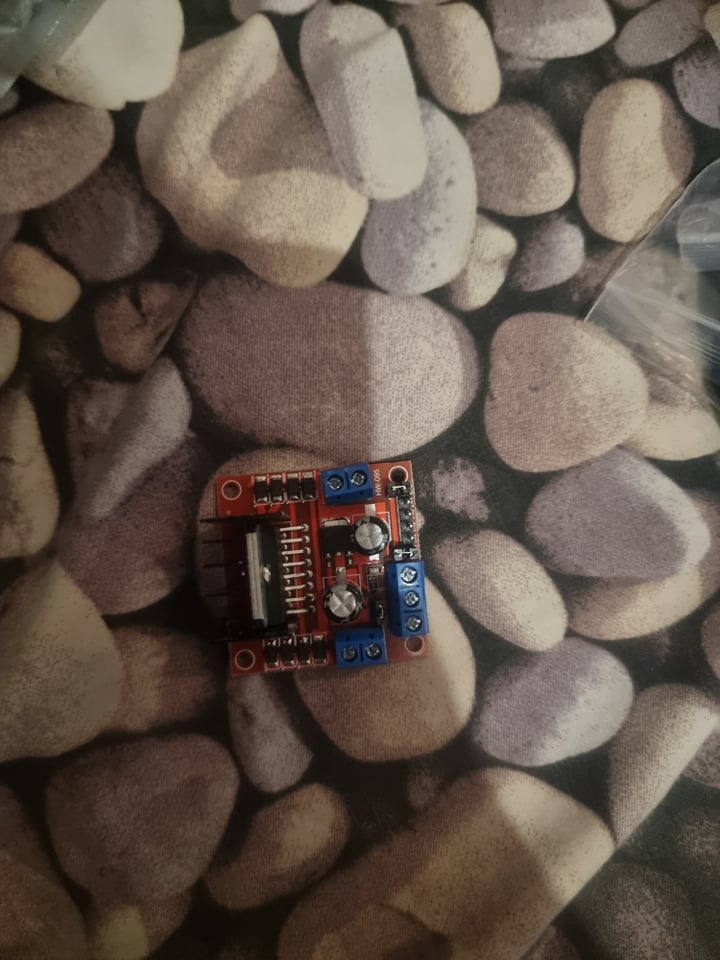MOTOR: (213, 460, 431, 683)
